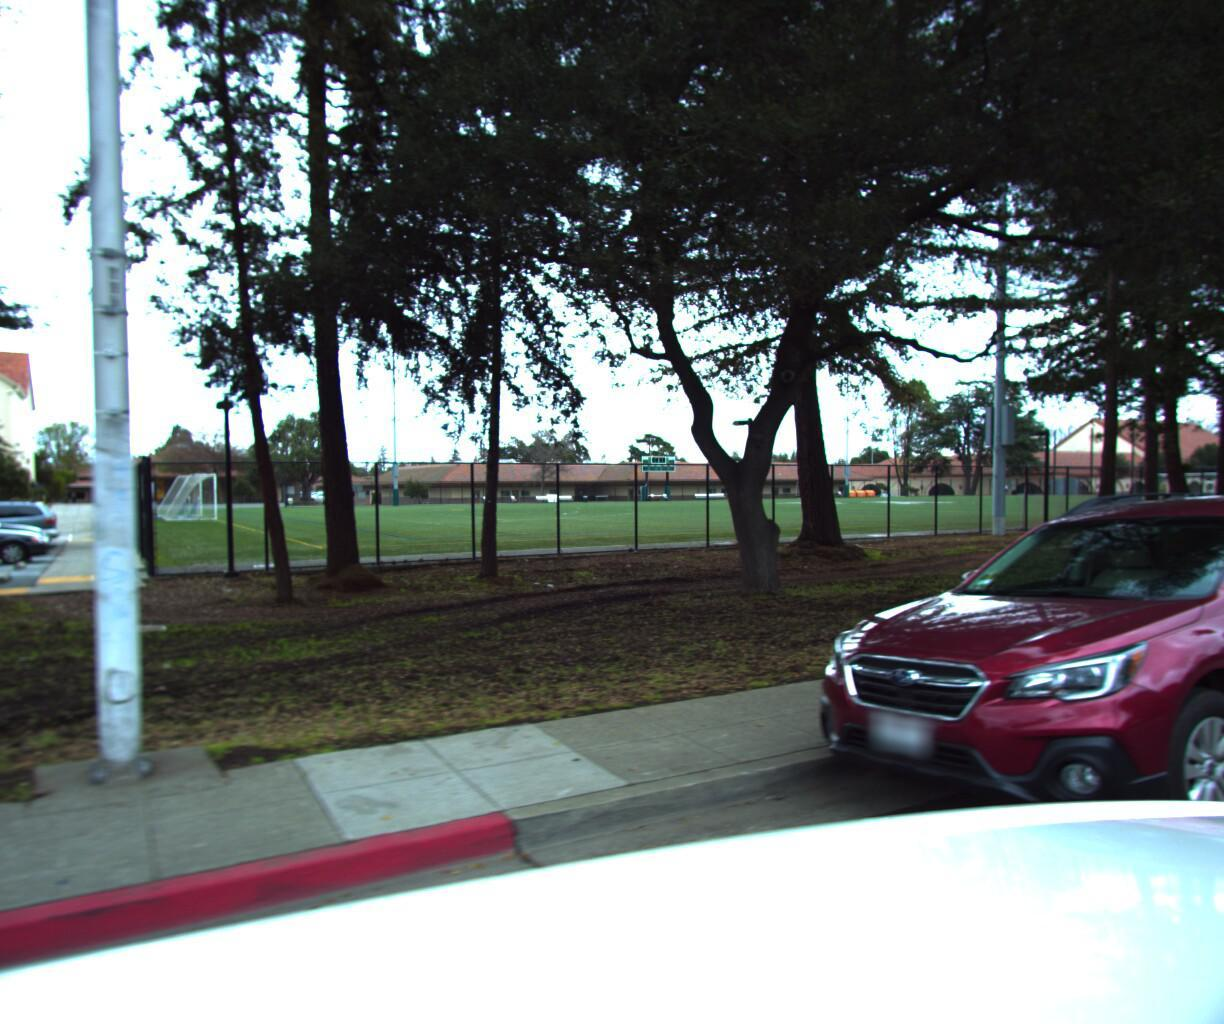car: (760, 484, 1224, 939)
